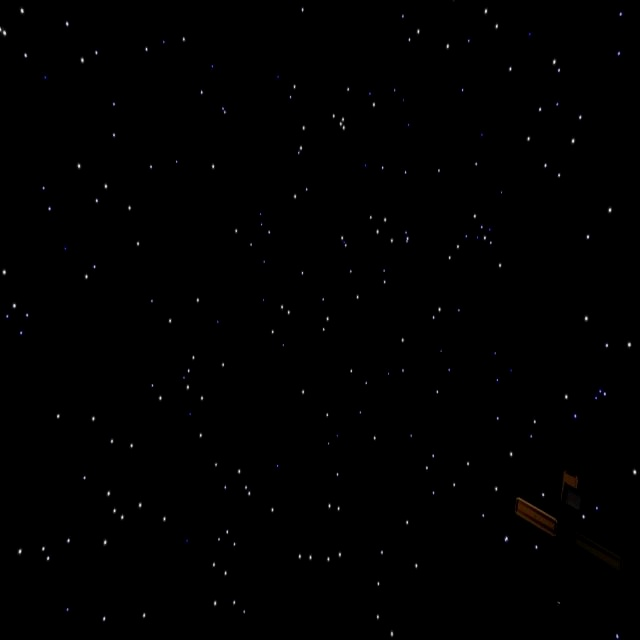satellite: (508, 468, 623, 579)
